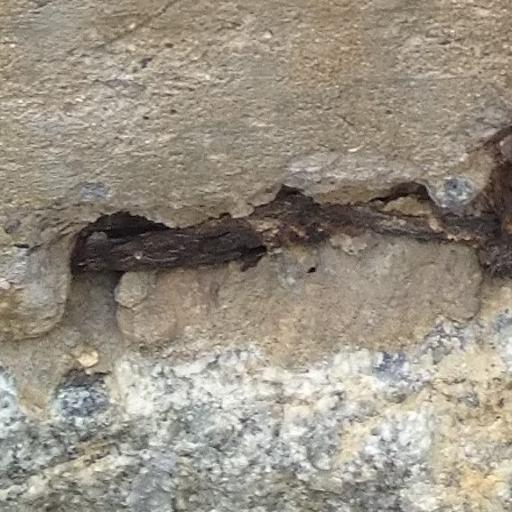spalling: (10, 148, 512, 412)
